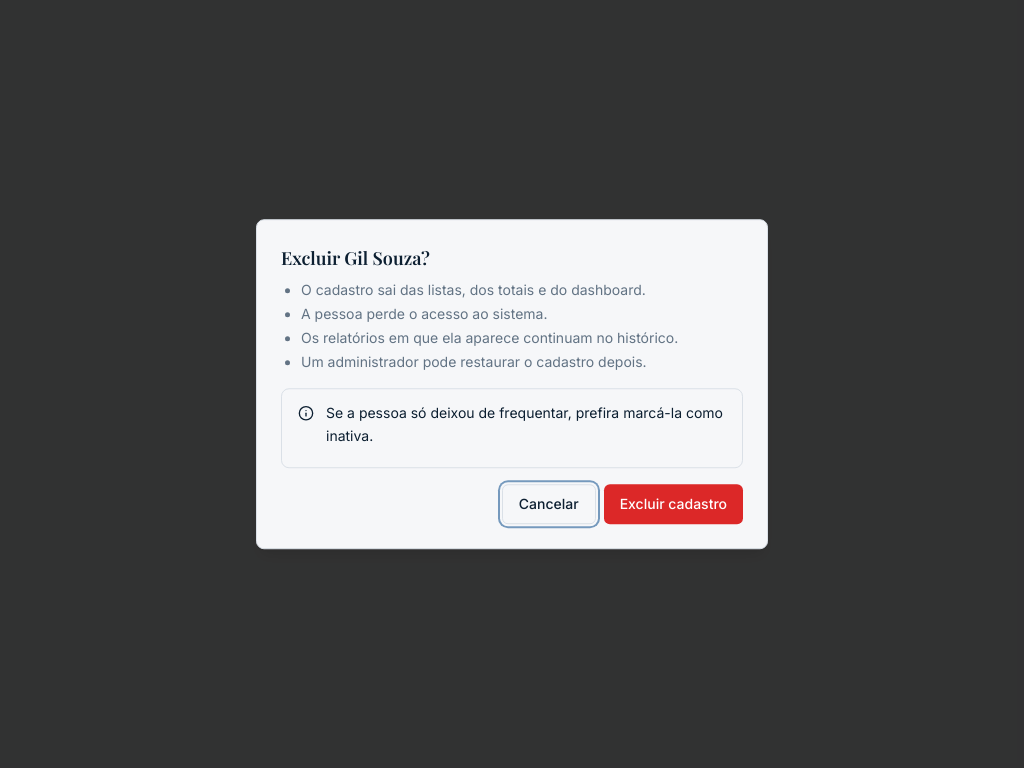
Test: MemberDeletionFlow: recusas do servidor (UX-11) › AQ-2: uma recusa sem os detalhes estruturados aparece no bloqueio com o texto como veio
Click the button "Excluir cadastro" at (673,504), box [604, 484, 743, 524]
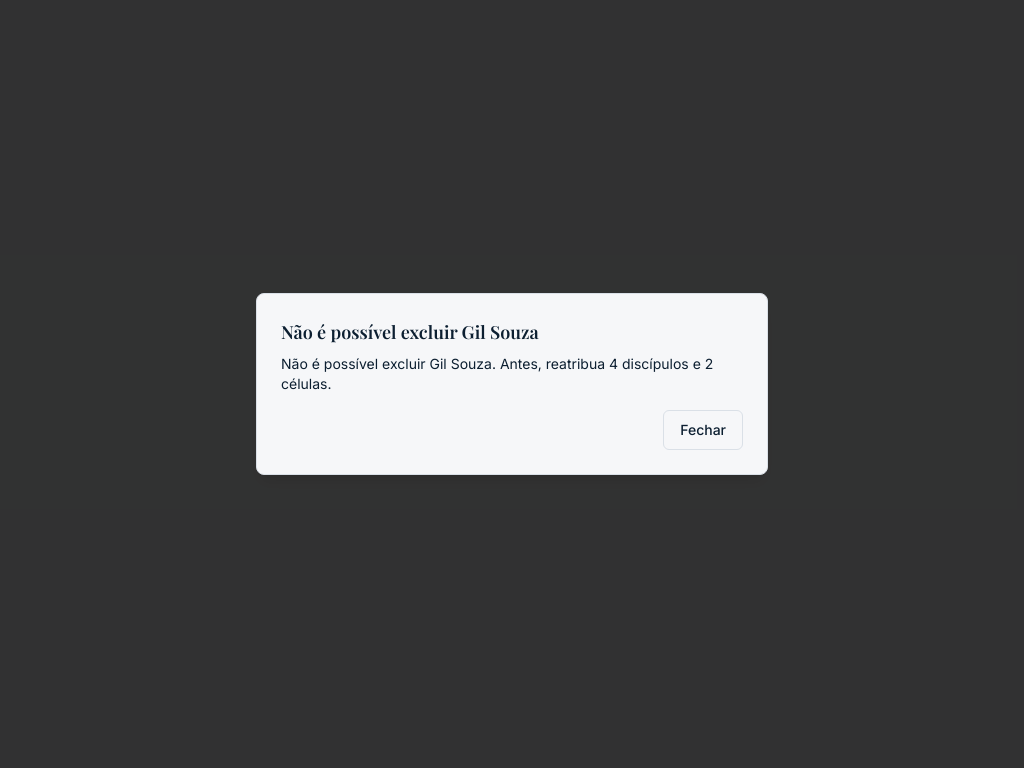
Expected: the heading "Não é possível excluir Gil Souza" is shown, [281, 320, 539, 344]
Expected: the dialog shows "Não é possível excluir Gil Souza. Antes, reatribua 4 discípulos e 2 células.", [281, 355, 713, 392]
Expected: the buttons read "Fechar", in this order, [663, 410, 743, 450]
